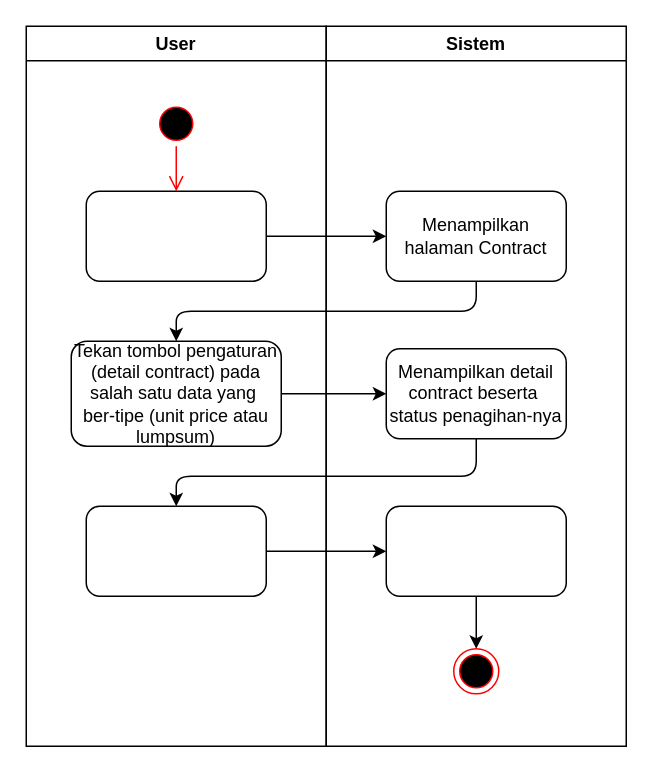
The diagram is 653 pixels wide and 773 high, and some of its shapes have lost their labels. Each missing label, with the centre of its shape:
"Membuka halaman Contract" belongs at (x=175, y=235).
"Memilih tombol hapus pada salah satu data status penagihan" belongs at (x=175, y=550).
"Menyimpan perubahan data status penagihan" belongs at (x=475, y=550).
